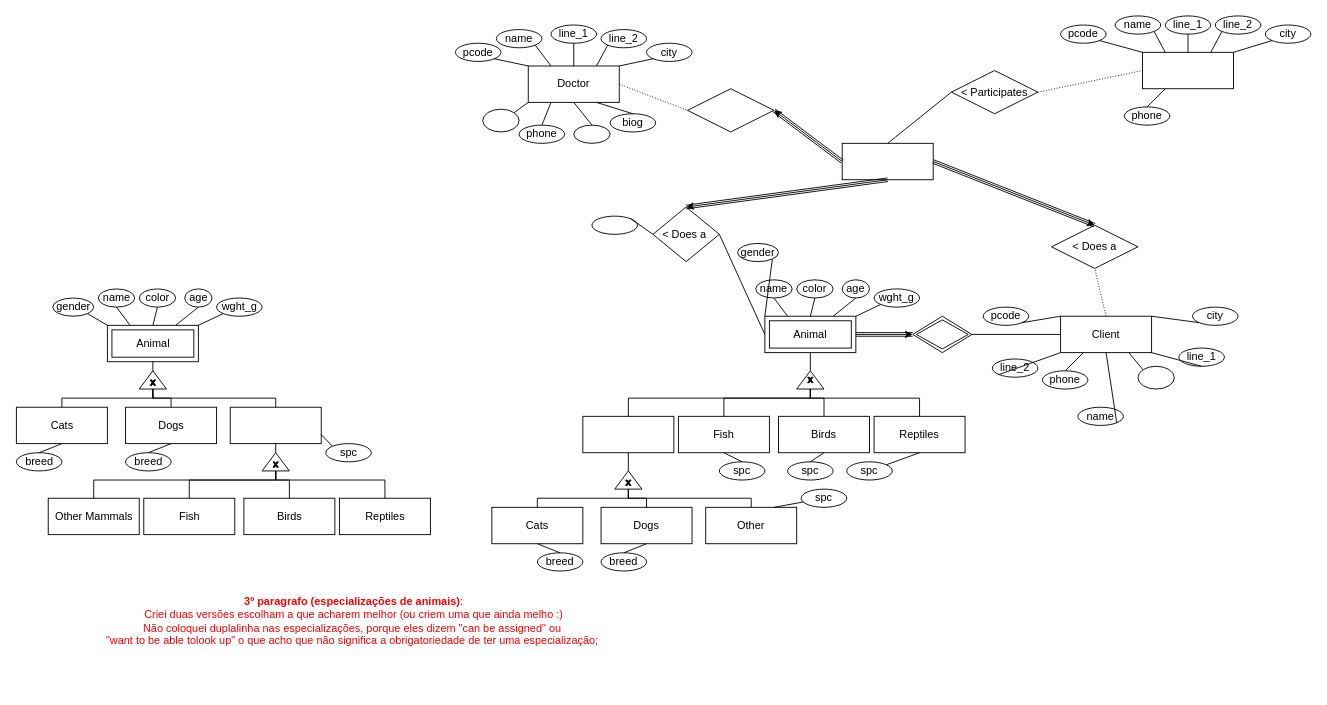
Some shapes in this 1327 by 705 pixel diagram are drawn without their labels. The shapes that lost their labels are listed below. From the top down, each one's box as (x1, y1, x2, y2) in pixels, then its label:
(1142, 51, 1234, 89): Assis tant
(482, 108, 519, 132): OMV
(687, 88, 774, 132): Participates >
(573, 124, 610, 143): spclz
(841, 142, 933, 180): Visit
(591, 215, 637, 234): date
(912, 315, 972, 353): < Owns
(1137, 365, 1174, 389): TIN
(229, 406, 321, 444): Other_Animals
(582, 415, 674, 453): Mammals
